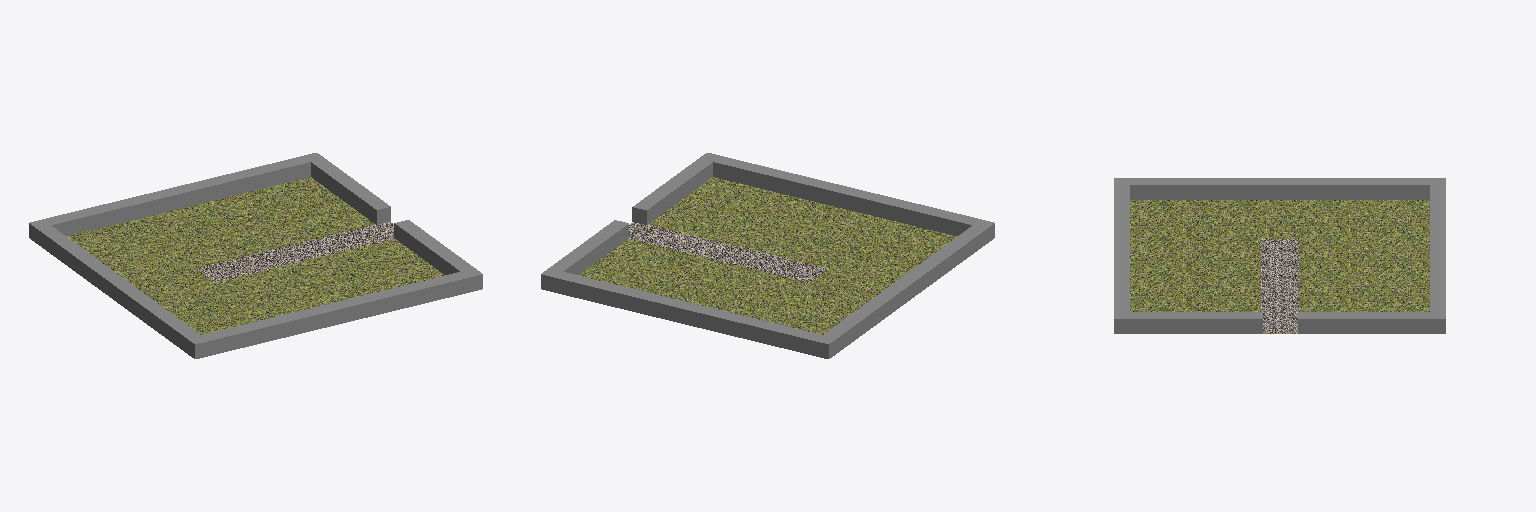
3 renders of one model, left to right at view 1: azimuth 30°, elevation 25°; view 2: azimuth 150°, elevation 25°; view 3: azimuth 270°, elevation 25°, orthographic.
Visible parts, largest first — view 1: Plane001, Plane006, Plane007, Plane003, Plane005, Plane004; view 2: Plane001, Plane007, Plane006, Plane003, Plane004, Plane005, Plane002; view 3: Plane001, Plane004, Plane006, Plane007, Plane003, Plane002, Plane005.
Part boxes in pixels (x1,y1,x2,y2): Plane001: (67,177,444,334); Plane006: (229,253,280,274); Plane007: (196,261,247,282); Plane003: (323,229,374,251); Plane005: (260,245,310,265); Plane004: (292,238,341,258); Plane001: (579,177,956,334); Plane007: (776,261,827,282); Plane006: (743,252,794,274); Plane003: (649,230,700,251); Plane004: (682,238,730,258); Plane005: (714,245,761,265); Plane002: (629,222,667,243); Plane001: (1130,200,1429,333); Plane004: (1261,285,1298,300); Plane006: (1261,255,1298,270); Plane007: (1261,239,1298,254); Plane003: (1261,301,1298,316); Plane002: (1263,317,1297,332); Plane005: (1261,271,1298,284).
Bounding box in the file's own units: 603 × 30 × 603.
3 materials, 2 textured.